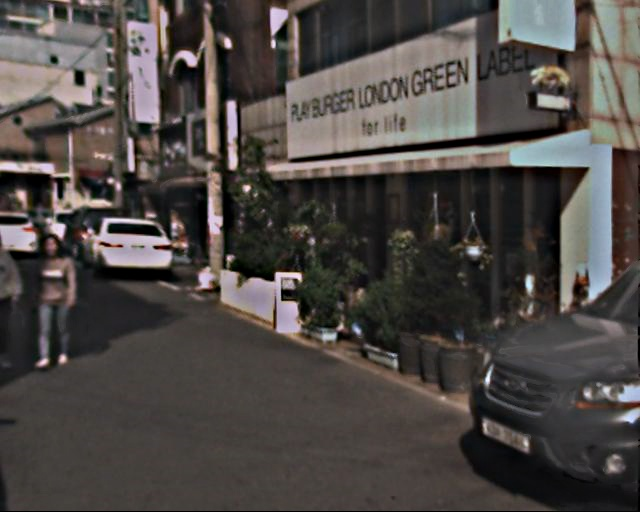person: (22, 229, 89, 372)
